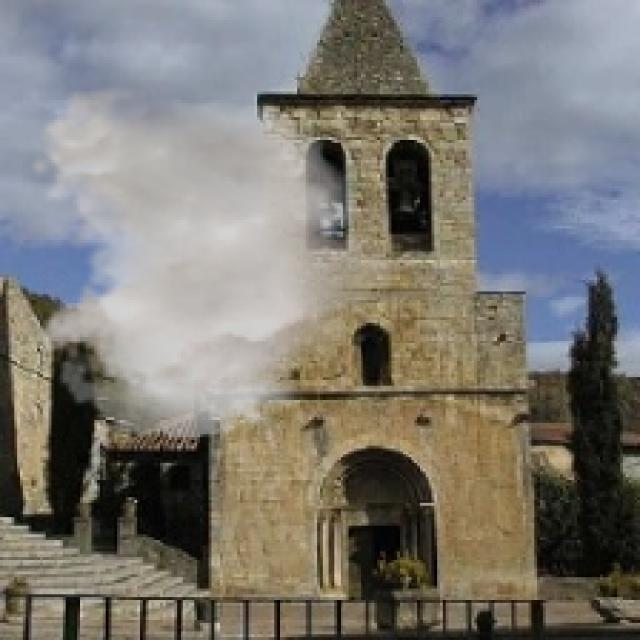smoke: (26, 86, 400, 440)
